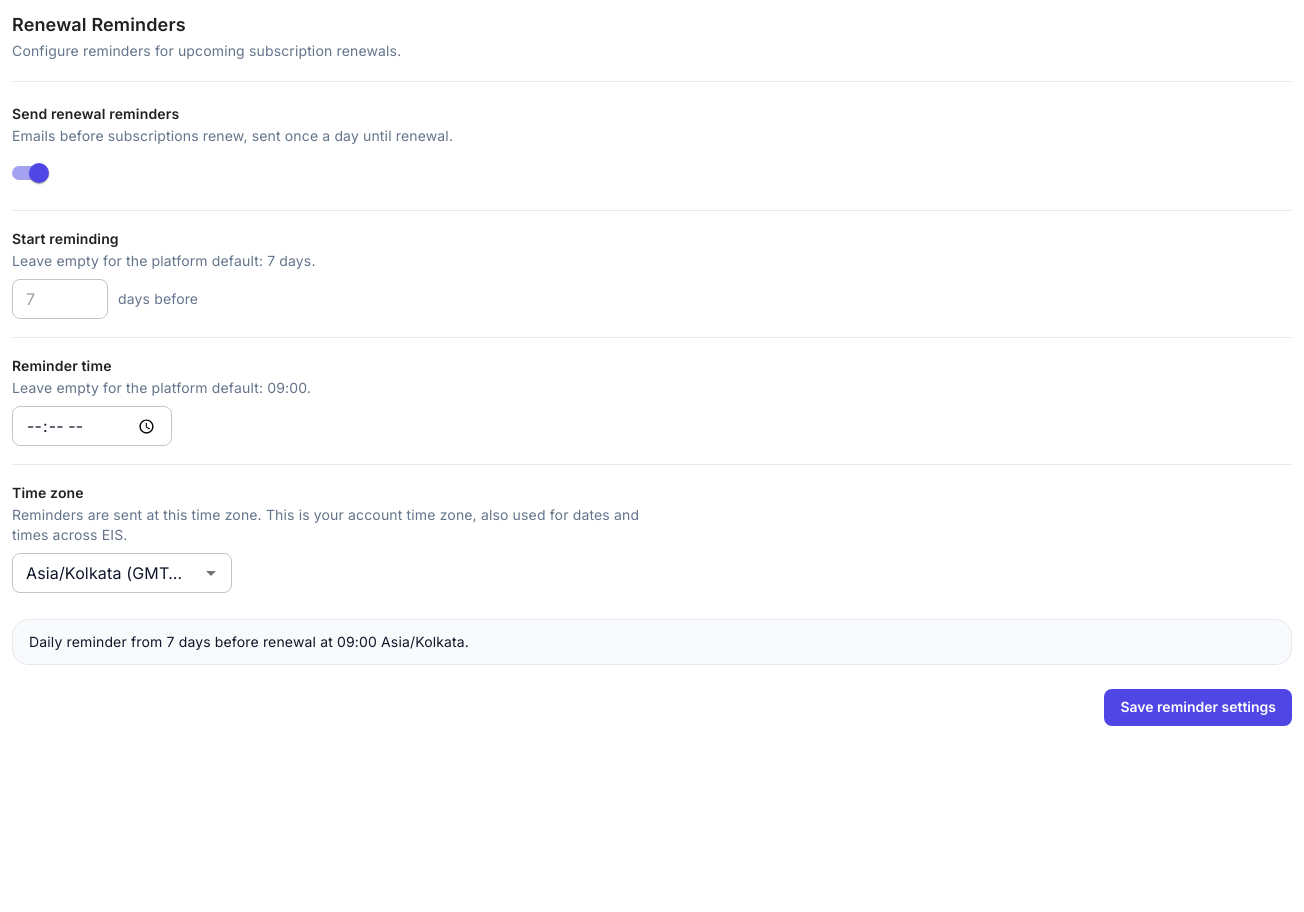
Test case: RenewalRemindersCard › saves own days and refuses an out-of-range value
Type "45" into the field named "Start reminding (days before renewal)" at (60, 299), box [12, 279, 108, 319]
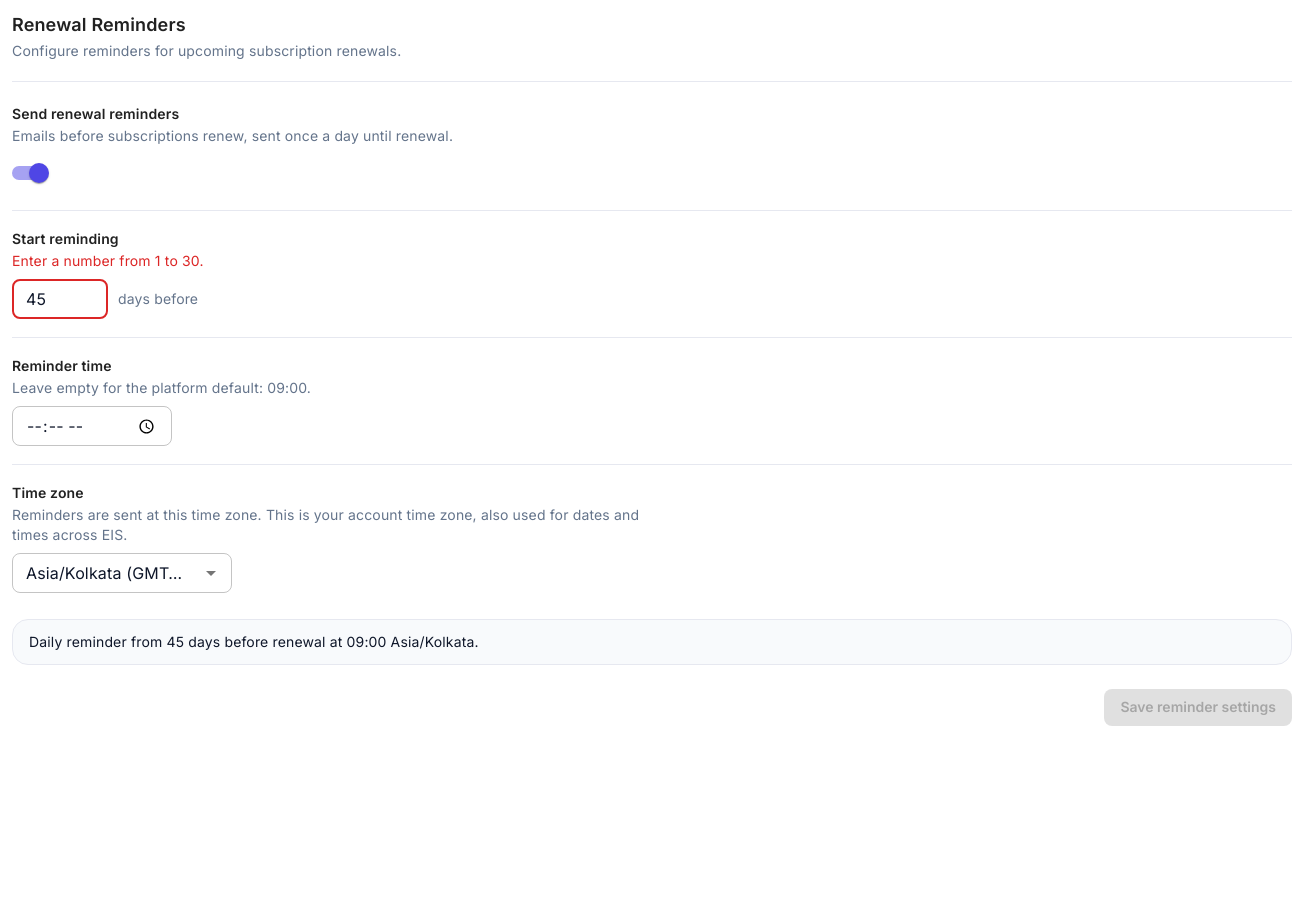
expect the text "Enter a number from 1 to 30." is shown: met, box [12, 252, 204, 269]
expect the button "Save reminder settings" is disabled: met, box [1104, 689, 1292, 726]
Replace the text in the field named "Start reminding (days before renewal)" with "3" at (60, 299), box [12, 279, 108, 319]
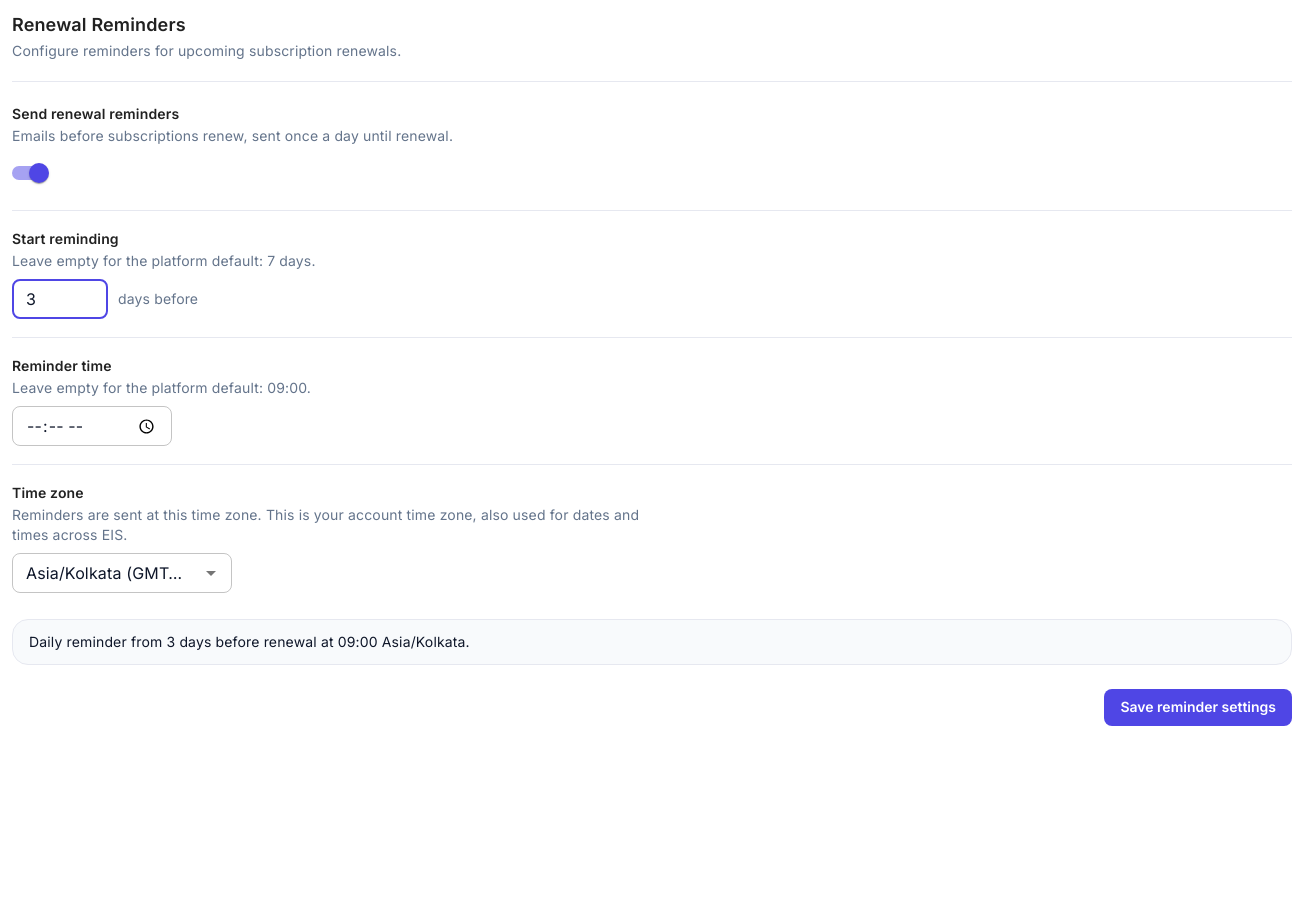
Click the button "Save reminder settings" at (1198, 708), box [1104, 689, 1292, 726]
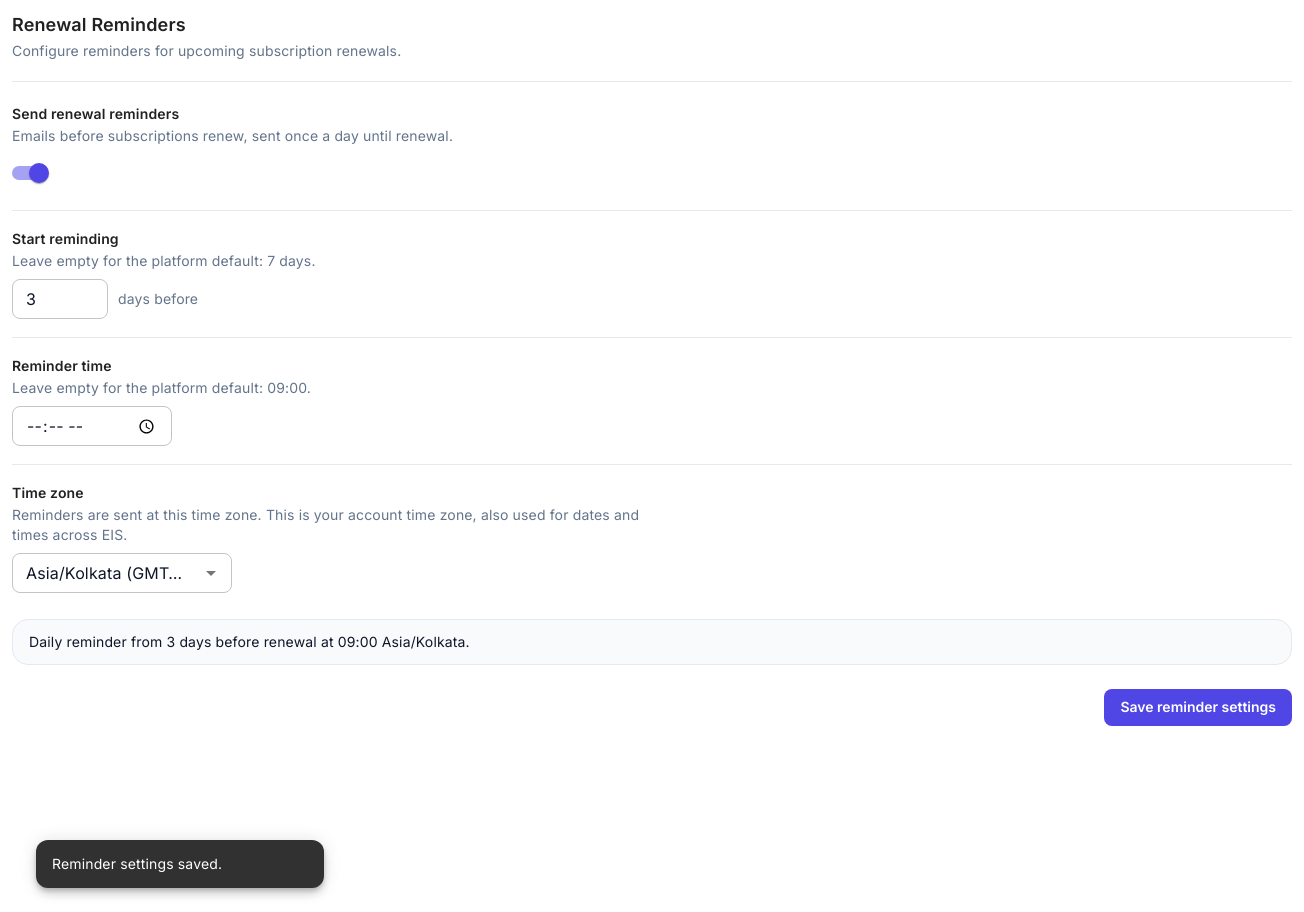
expect the text "Reminder settings saved." is shown: met, box [52, 855, 222, 872]
